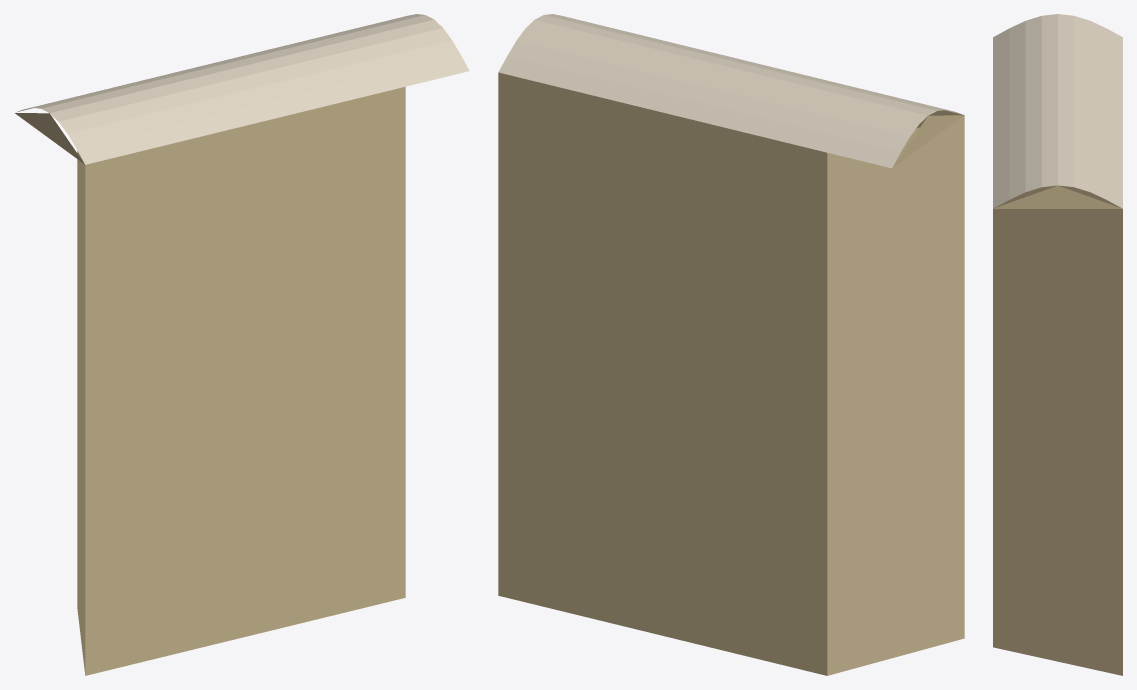
The model's file is N-40-42.old_vault_zone.glb.
3 renders of one model, left to right at view 1: azimuth 30°, elevation 25°; view 2: azimuth 150°, elevation 25°; view 3: azimuth 270°, elevation 25°, orthographic. The views are drawn at different scales.
Visible parts, largest first — view 1: N-40-42.old_vault_zone; view 2: N-40-42.old_vault_zone; view 3: N-40-42.old_vault_zone.
Part boxes in pixels (x1,y1,x2,y2): N-40-42.old_vault_zone: (15,14,469,675); N-40-42.old_vault_zone: (498,14,964,675); N-40-42.old_vault_zone: (993,14,1122,675).
Bounding box in the file's own units: 5.51 × 7.35 × 1.76.
